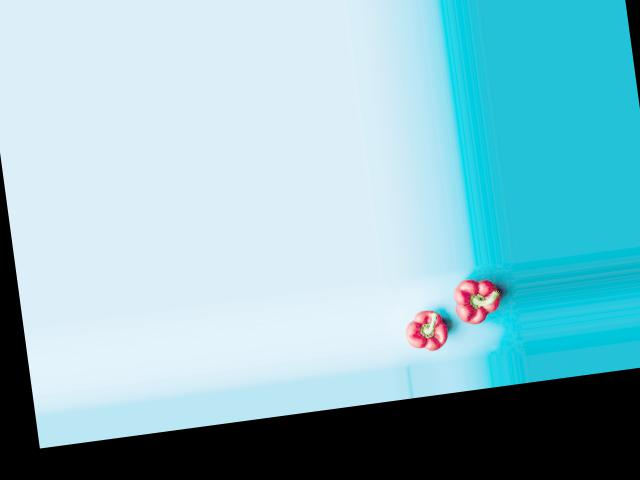bell_pepper: (442, 275, 509, 333)
